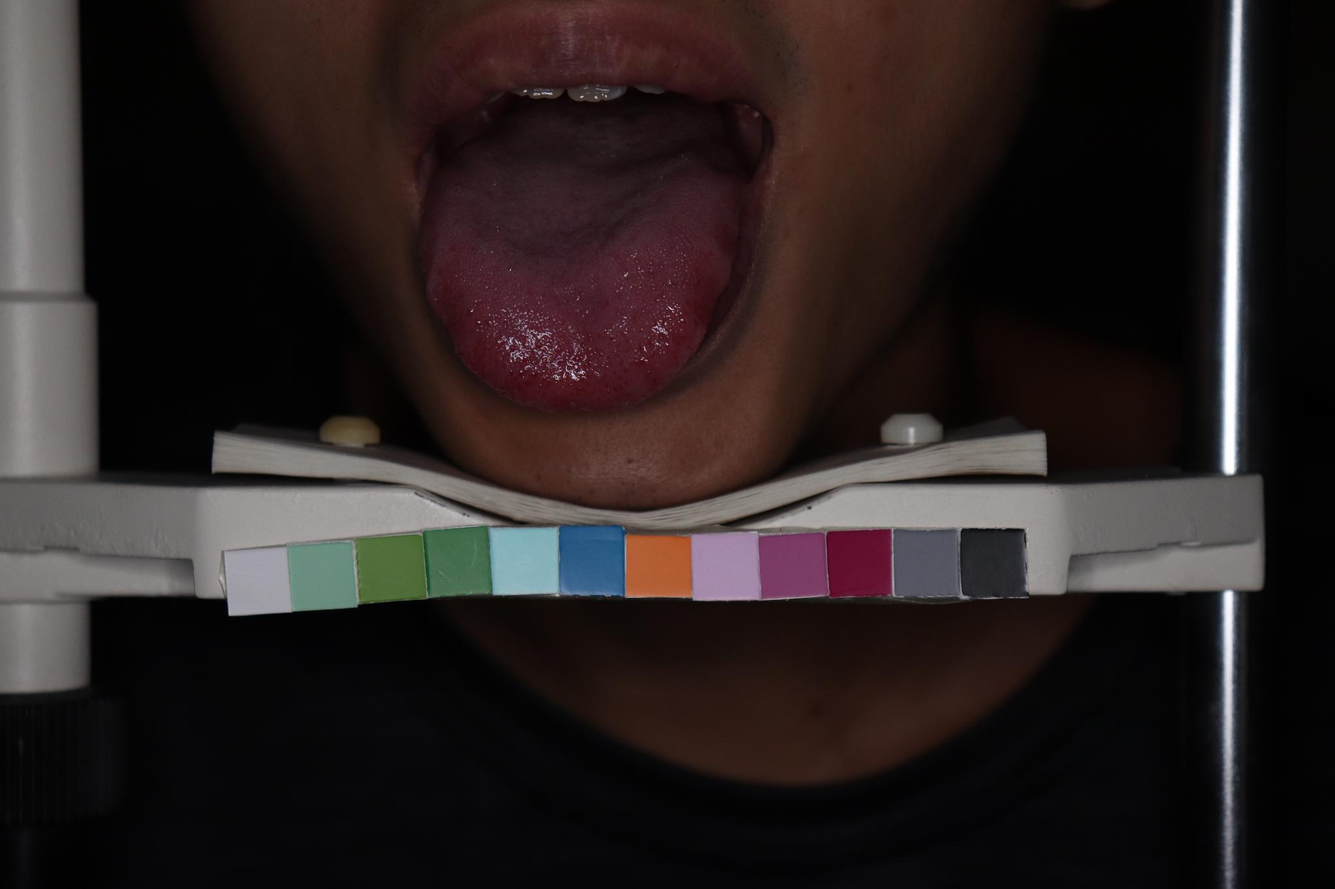chihenshe: (418, 230, 474, 360), (688, 212, 744, 330)
hongshe: (418, 106, 744, 413)
piweiao: (499, 182, 648, 270)
